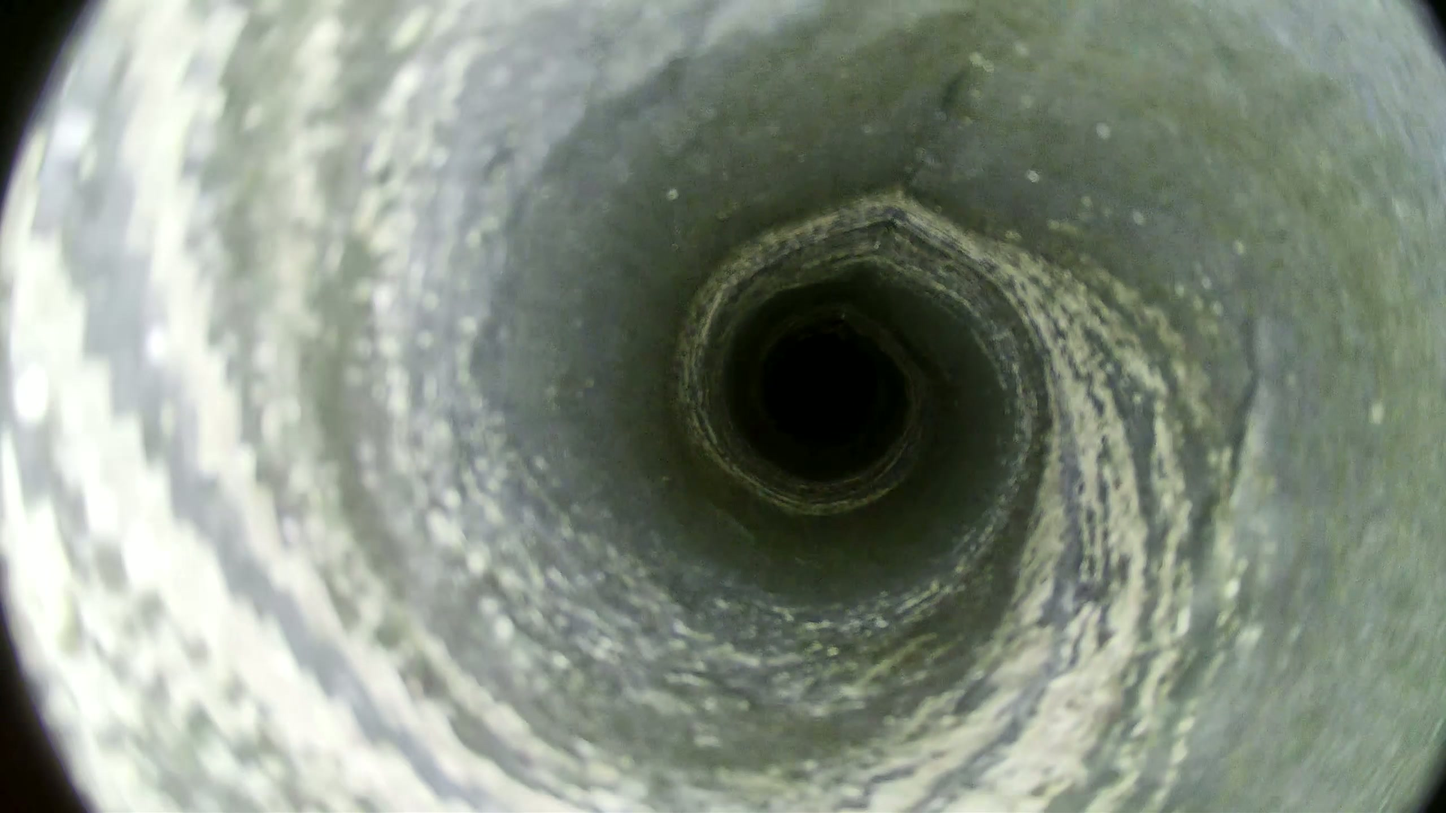hole: (767, 336, 878, 446)
